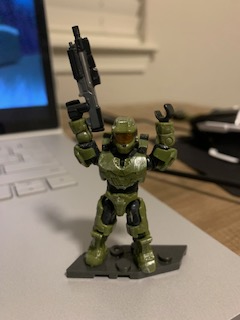chief: (66, 99, 178, 278)
rifle: (61, 25, 107, 139)
spartan: (64, 97, 176, 276)
up: (63, 98, 179, 191)
